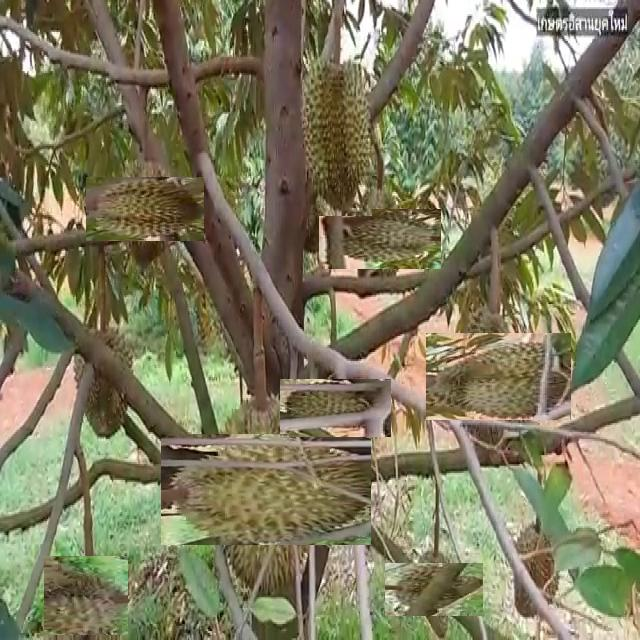durian: (186, 408, 346, 570), (440, 318, 557, 435), (296, 52, 372, 216), (68, 312, 136, 446), (100, 163, 191, 255), (334, 194, 425, 285), (293, 366, 377, 450), (45, 554, 126, 637), (508, 516, 564, 622), (396, 551, 472, 627)
